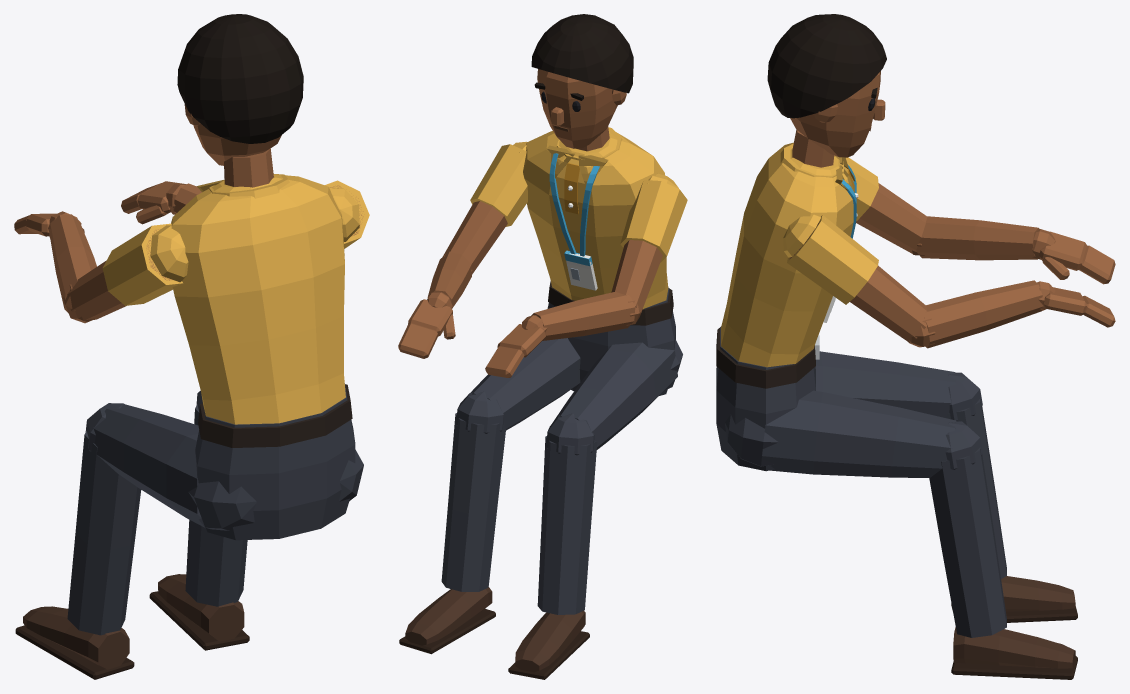
The model's file is person_coworker_typing.glb.
3 renders of one model, left to right at view 1: azimuth 30°, elevation 25°; view 2: azimuth 150°, elevation 25°; view 3: azimuth 270°, elevation 25°, orthographic. The views are drawn at different scales.
Parts seen in each view (by area): view 1: Chest, Hips, Head, Shin_L, Thigh_L, UpperArm_L, Foot_L, Shin_R, Foot_R, Forearm_L, Hand_R, UpperArm_R (+3 smaller); view 2: Chest, Head, Shin_L, Shin_R, Thigh_L, UpperArm_L, UpperArm_R, Thigh_R, Foot_R, Hips, Forearm_L, Foot_L (+3 smaller); view 3: Chest, Thigh_R, Head, Shin_R, UpperArm_R, Hips, Thigh_L, Foot_R, Forearm_R, Forearm_L, UpperArm_L, Foot_L (+4 smaller).
Part boxes in pixels (x1,y1,x2,y2): Chest: (171, 174, 345, 424); Hips: (195, 383, 355, 540); Head: (177, 14, 303, 165); Shin_L: (67, 403, 141, 635); Thigh_L: (92, 404, 256, 530); UpperArm_L: (67, 223, 188, 320); Foot_L: (15, 606, 134, 679); Shin_R: (185, 391, 247, 606); Foot_R: (149, 574, 249, 650); Forearm_L: (49, 214, 96, 323); Hand_R: (121, 181, 186, 224); UpperArm_R: (325, 180, 369, 248); Chest: (523, 127, 668, 309); Head: (531, 14, 633, 148); Shin_L: (537, 413, 597, 614); Shin_R: (441, 391, 505, 591); Thigh_L: (552, 339, 682, 449); UpperArm_L: (611, 173, 687, 313); UpperArm_R: (442, 141, 527, 274); Thigh_R: (462, 338, 580, 430); Foot_R: (399, 587, 495, 654); Hips: (547, 281, 675, 395); Forearm_L: (531, 292, 641, 340); Foot_L: (508, 611, 589, 679); Chest: (721, 142, 858, 367); Thigh_R: (725, 390, 956, 477); Head: (767, 14, 886, 157); Shin_R: (929, 421, 1006, 637); UpperArm_R: (783, 214, 927, 343); Hips: (716, 326, 819, 471); Thigh_L: (815, 351, 956, 417); Foot_R: (951, 627, 1077, 679); Forearm_R: (908, 280, 1043, 348); Forearm_L: (910, 216, 1039, 260); UpperArm_L: (846, 157, 927, 252); Foot_L: (951, 576, 1077, 622).
Bounding box in the file's own units: 0.4962 × 1.34 × 0.7773.
